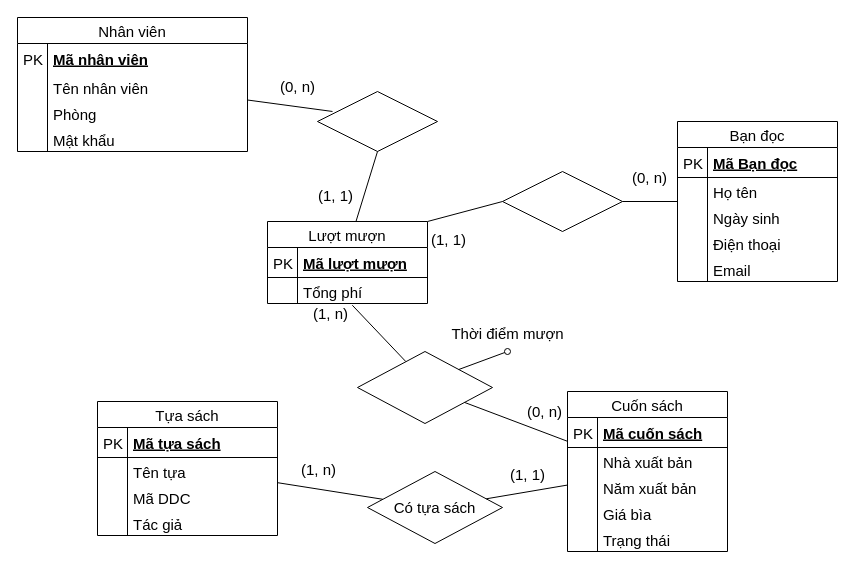
The diagram is 855 pixels wide and 572 high, and some of its shapes have lost their labels. Each missing label, with the box of its shape:
Có lượt mượn: (502, 170, 622, 232)
Thuộc lượt mượn: (356, 350, 492, 424)
Xử lý mượn: (316, 90, 438, 152)
